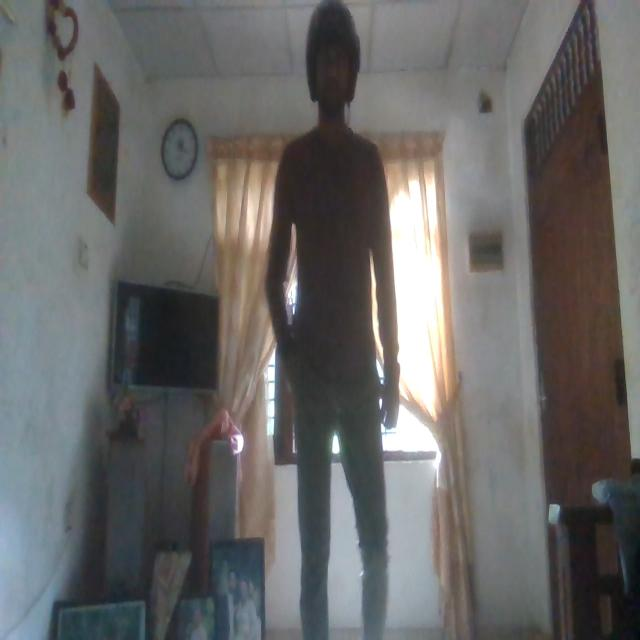Helmet_Wearer: (303, 0, 366, 108)
Person: (272, 0, 395, 640)
